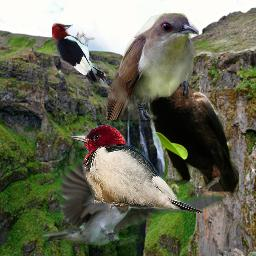Crow: (127, 53, 239, 204)
Cuckoo: (106, 13, 199, 120)
Swallow: (42, 149, 225, 246)
Woodpecker: (67, 125, 204, 213), (52, 23, 109, 85)
